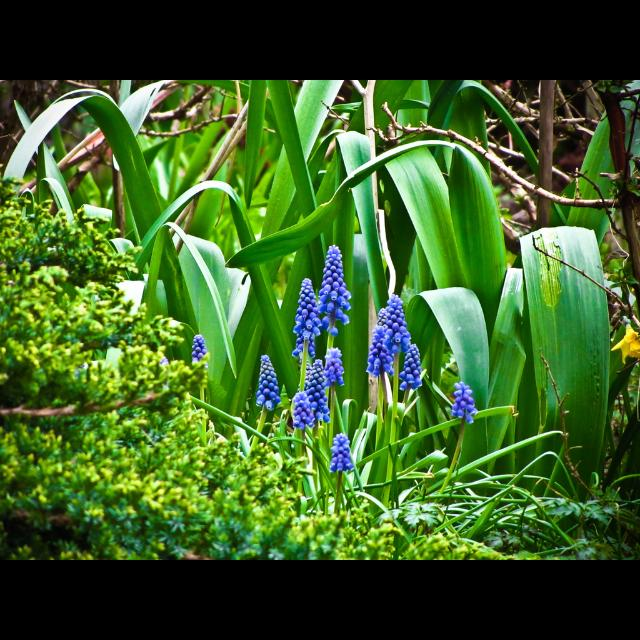Flower: (253, 240, 482, 478), (609, 322, 639, 366), (192, 332, 208, 372), (158, 354, 172, 381)
